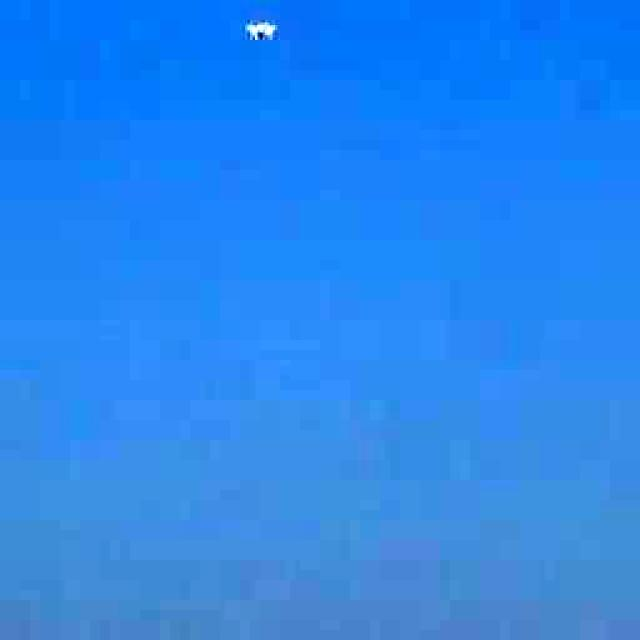bird: (215, 0, 300, 71)
